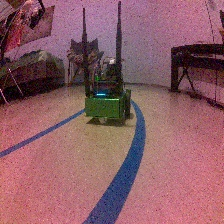rob: (84, 58, 131, 124)
